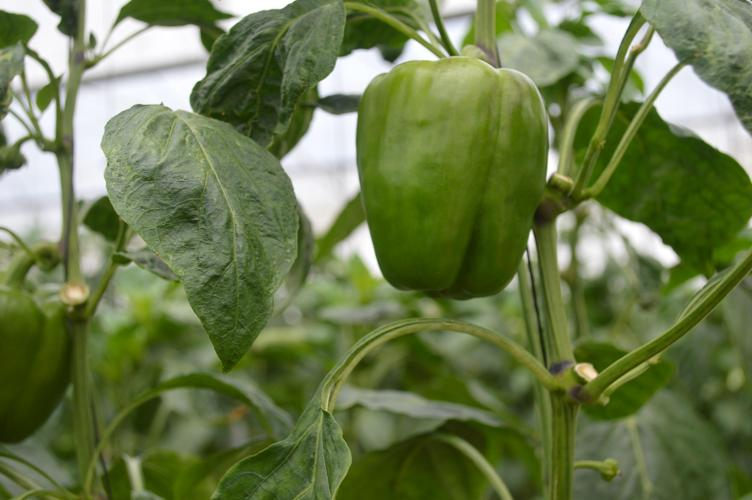BellPepper: (351, 58, 545, 291)
